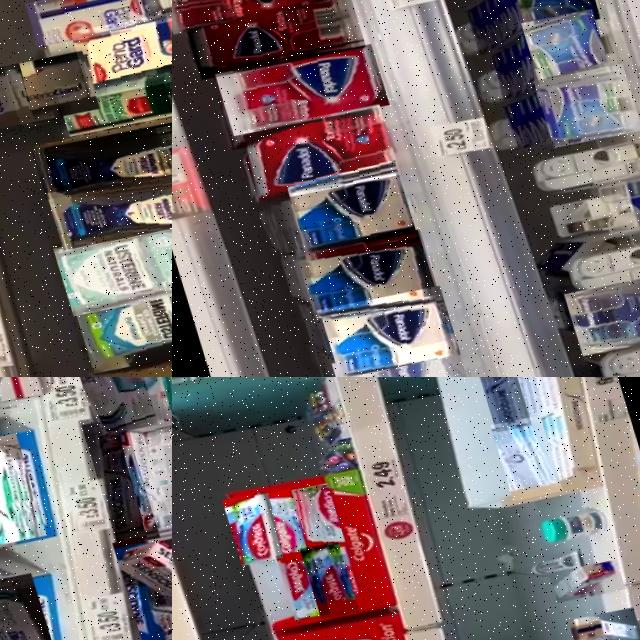Mouthwash: (43, 184, 172, 318), (24, 88, 172, 202), (38, 131, 172, 252), (63, 238, 172, 374)
Other: (210, 33, 388, 141), (237, 94, 398, 205), (290, 220, 436, 321), (311, 276, 455, 377), (282, 158, 414, 261), (49, 36, 172, 137), (529, 53, 640, 145), (557, 257, 640, 354), (0, 40, 96, 121), (322, 328, 473, 377), (530, 495, 612, 543), (0, 54, 31, 135), (523, 539, 590, 576)
Toothpaste: (76, 409, 154, 542), (104, 506, 172, 640), (108, 402, 172, 539), (488, 406, 561, 496), (0, 424, 41, 547), (63, 377, 154, 432), (218, 486, 280, 564), (296, 535, 355, 616), (251, 482, 308, 561), (286, 477, 343, 551), (0, 564, 55, 640), (271, 543, 326, 618), (544, 549, 622, 598), (562, 596, 639, 640), (472, 377, 530, 427)
